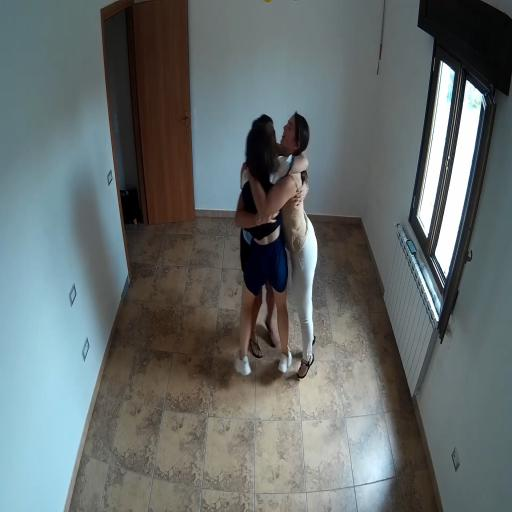nao-violencia: (226, 99, 326, 389)
